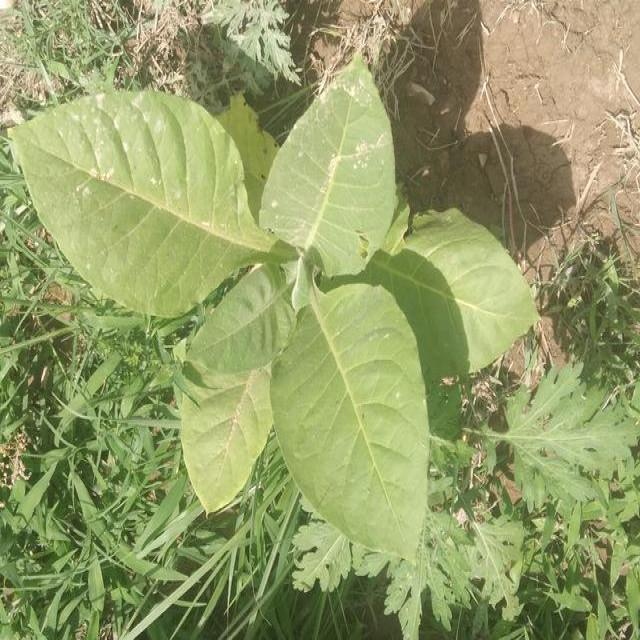crop: (15, 58, 538, 554)
